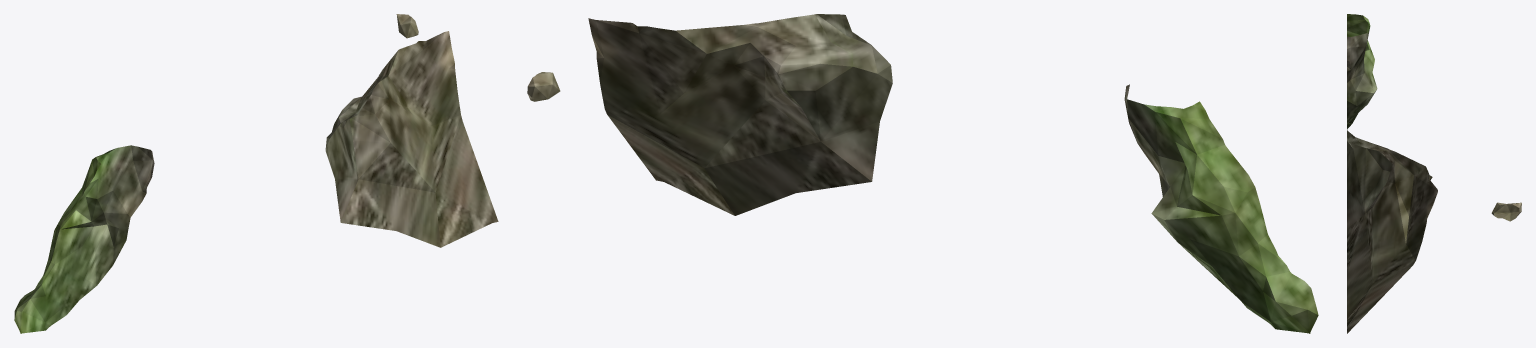
3 views of the same model, side by side, from view 1: azimuth 30°, elevation 25°; view 2: azimuth 150°, elevation 25°; view 3: azimuth 270°, elevation 25° (orthographic). The views are drawn at different scales.
Bounding box in the file's own units: 2.6 × 0.8559 × 0.8856.
1 material, 1 textured.
